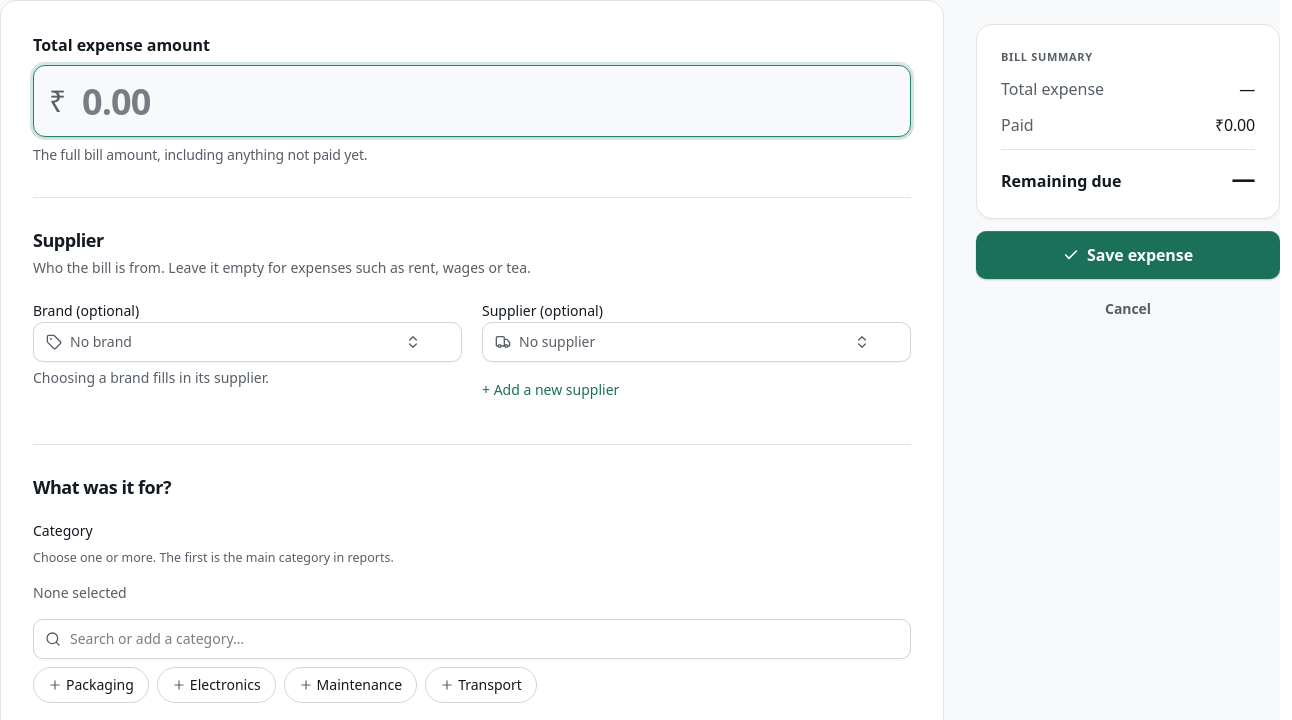
ExpenseForm: payment breakdown › starts with one payment row that cannot be removed, and follows the expense amount
Type "2500" into the field labelled "Total expense amount" at (472, 101), box [33,65,911,137]
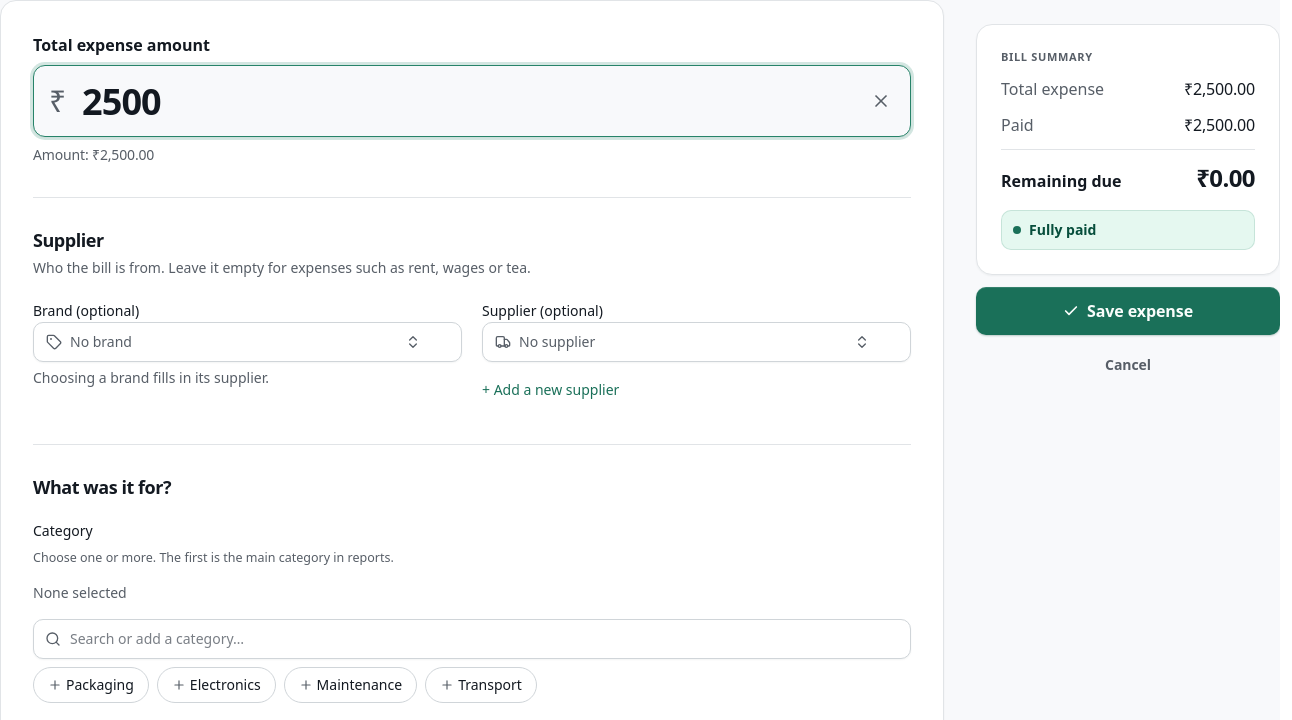
expect the 2nd text "₹2,500.00" is shown: met, box [1184,113,1255,137]
expect the element with test id "payment-badge" reads "Fully paid": met, box [1029,220,1096,239]
expect the text with test id "payment-remaining" reads "₹0.00": met, box [1196,161,1255,194]
